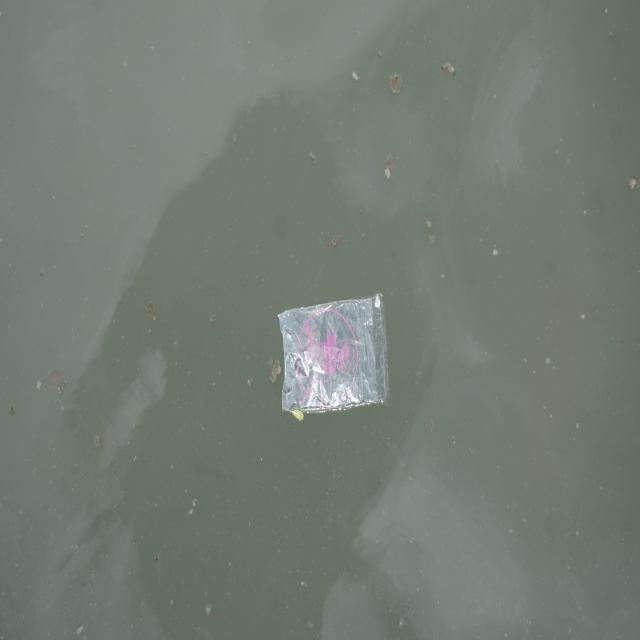Bungkus Makanan: (275, 293, 396, 427)
